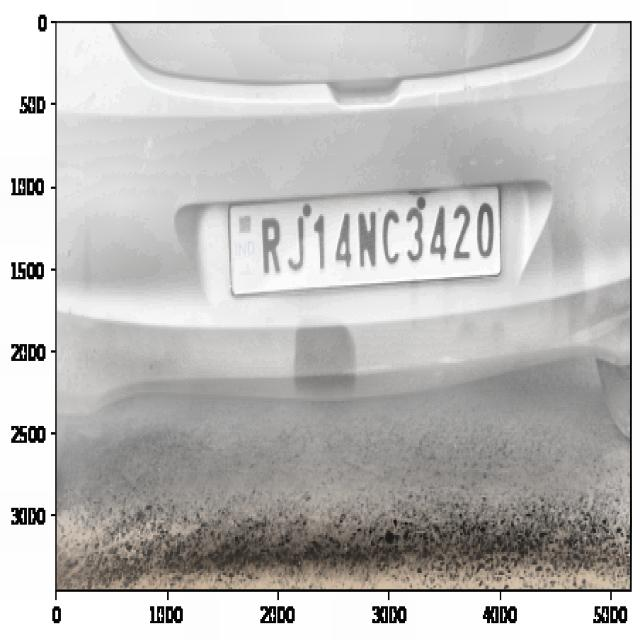license_plate: (252, 198, 498, 279)
